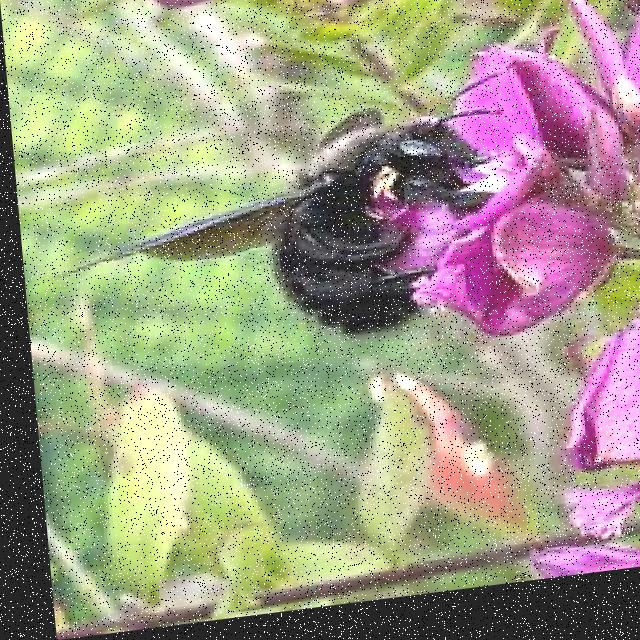Xylocopa: (61, 96, 509, 395)
